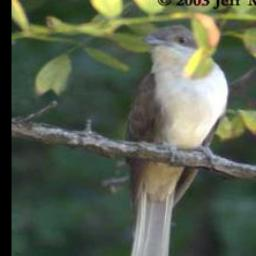Cuckoo: (119, 24, 229, 256)
